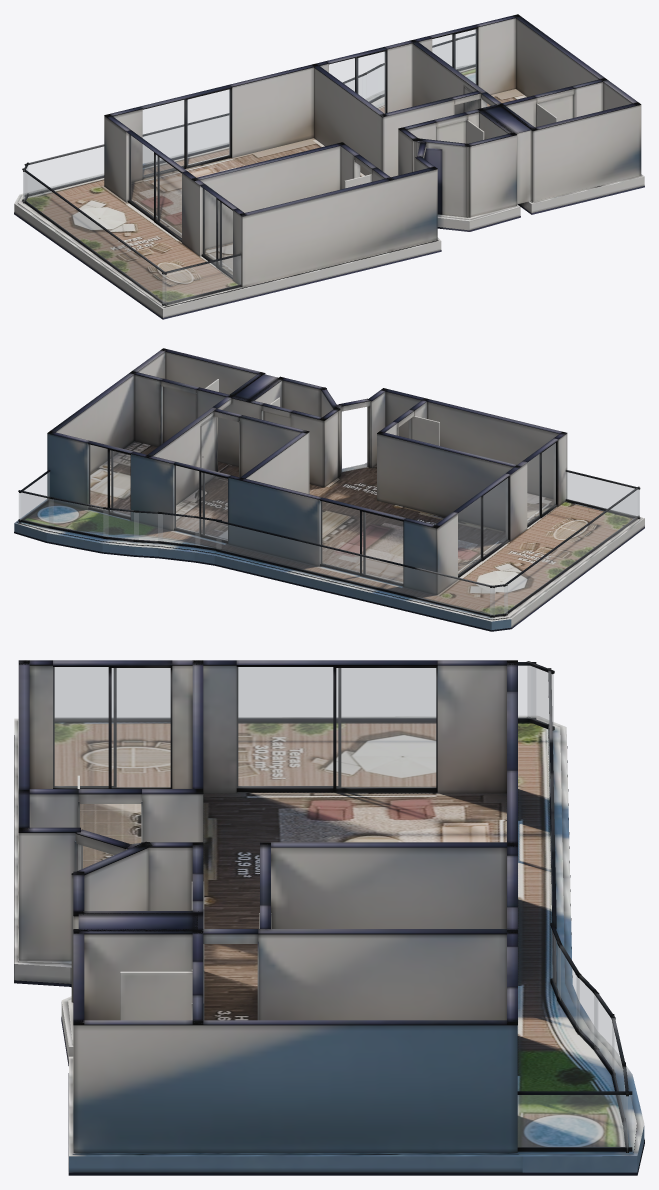
The picture shows the model from 3 angles, top to bottom: view 1: azimuth 30°, elevation 25°; view 2: azimuth 150°, elevation 25°; view 3: azimuth 270°, elevation 25°; orthographic projection. The views are drawn at different scales.
Parts seen in each view (by area): view 1: plan, glass0_m, railg9_m, railg1_m, glass1_m, railg10_m, glass2_m, glass4_m, glass3_m, railg7_m; view 2: plan, railg1_m, glass0_m, railg9_m, glass1_m, glass2_m, glass3_m, railg10_m, glass4_m, railg6_m, railg3_m, railg5_m (+5 smaller); view 3: plan, glass1_m, railg9_m, glass4_m, railg8_m, railg0_m, railg4_m, railg3_m, railg5_m.
Part boxes in pixels (box(x1,y1,x2,y2)): plan: box(14, 14, 644, 319); glass0_m: box(143, 89, 229, 176); railg9_m: box(23, 172, 166, 303); railg1_m: box(26, 116, 228, 193); glass1_m: box(129, 134, 181, 238); railg10_m: box(162, 256, 240, 303); glass2_m: box(329, 52, 385, 113); glass4_m: box(203, 188, 232, 275); glass3_m: box(432, 29, 476, 83); railg7_m: box(458, 36, 474, 68); plan: box(14, 348, 644, 631); railg1_m: box(216, 522, 494, 615); glass0_m: box(320, 501, 402, 583); railg9_m: box(504, 490, 638, 613); glass1_m: box(458, 478, 507, 575); glass2_m: box(174, 465, 227, 540); glass3_m: box(89, 444, 130, 516); railg10_m: box(566, 472, 639, 516); glass4_m: box(527, 443, 555, 524); railg6_m: box(49, 499, 108, 536); railg3_m: box(158, 514, 199, 545); railg5_m: box(103, 509, 138, 539); plan: box(14, 660, 644, 1175); glass1_m: box(237, 667, 435, 787); railg9_m: box(55, 666, 535, 718); glass4_m: box(53, 667, 170, 787); railg8_m: box(518, 1095, 631, 1147); railg0_m: box(528, 666, 553, 726); railg4_m: box(576, 976, 597, 1048); railg3_m: box(558, 947, 579, 1030); railg5_m: box(594, 995, 613, 1072).
Bounding box in the file's own units: 16.66 × 2.62 × 10.07.
2 materials, 1 textured.
